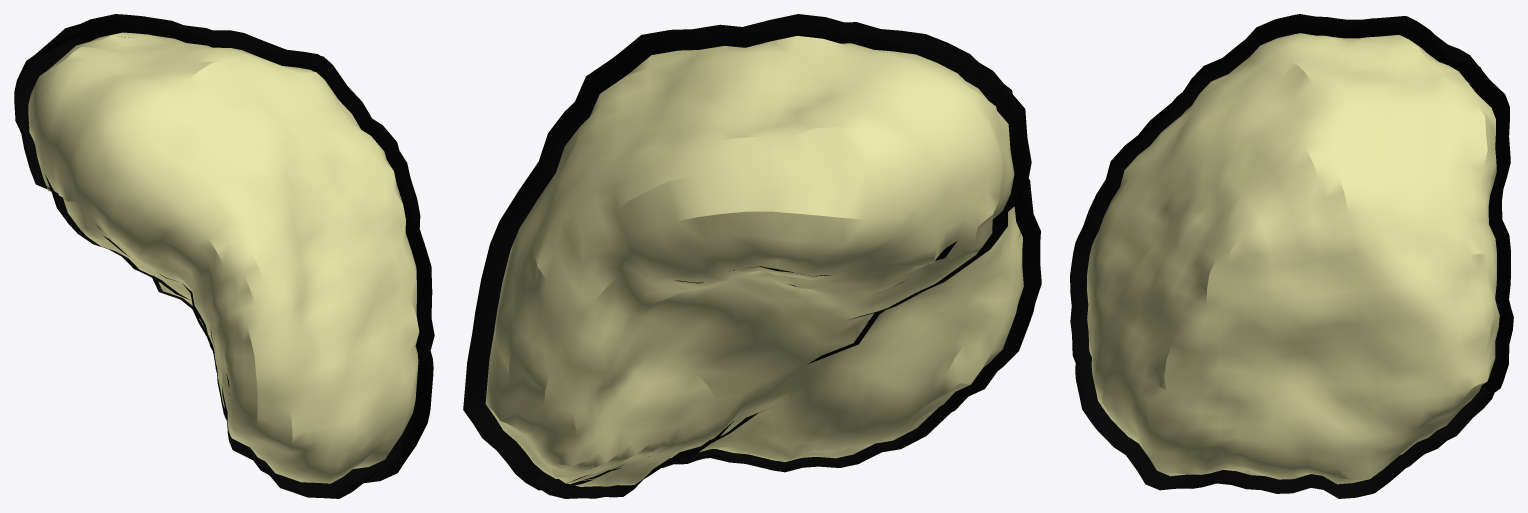
Rendered from Rock_4.fbx.
The picture shows the model from 3 angles, left to right: view 1: azimuth 30°, elevation 25°; view 2: azimuth 150°, elevation 25°; view 3: azimuth 270°, elevation 25°; orthographic projection. The views are drawn at different scales.
Visible parts, largest first — view 1: rock.005; view 2: rock.005; view 3: rock.005.
Part boxes in pixels (x1,y1,x2,y2): rock.005: (14, 14, 434, 498); rock.005: (463, 14, 1041, 498); rock.005: (1070, 14, 1513, 498).
Bounding box in the file's own units: 1107 × 1276 × 1310.
